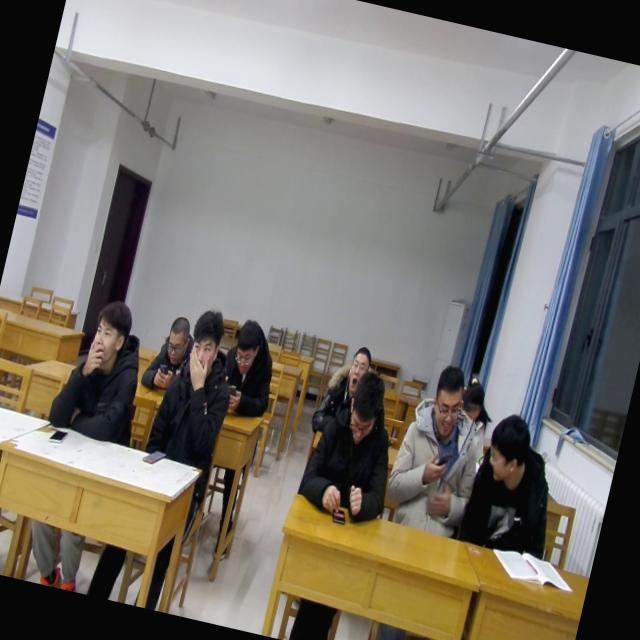bow: (211, 314, 287, 424), (138, 308, 200, 399)
down: (421, 361, 472, 444), (339, 366, 389, 448), (228, 311, 268, 376), (158, 308, 196, 364), (458, 368, 492, 423)
lookup: (84, 295, 138, 371), (180, 300, 230, 380), (341, 338, 375, 396)
sit: (378, 358, 498, 544), (292, 360, 413, 527), (140, 296, 252, 476), (44, 288, 162, 448), (456, 406, 574, 562), (308, 336, 379, 442), (447, 371, 503, 469)
